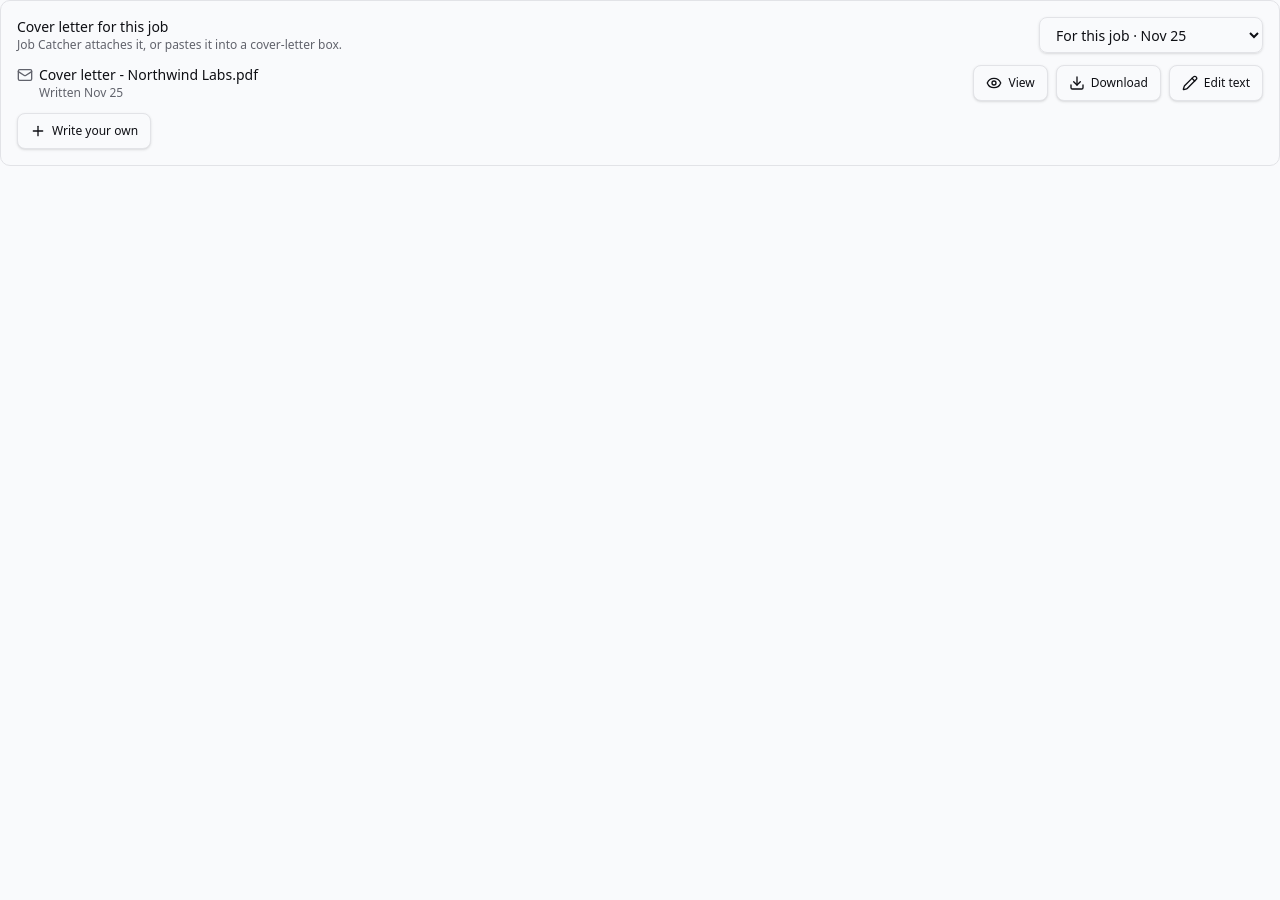
Cover letter for this job › views the letter in the app
This screenshot has width=1280, height=900.
Step 1. Click the button with aria-label "View Cover letter - Northwind Labs.pdf" → (1011, 83), box [974,65,1048,101]
(page scrolled)
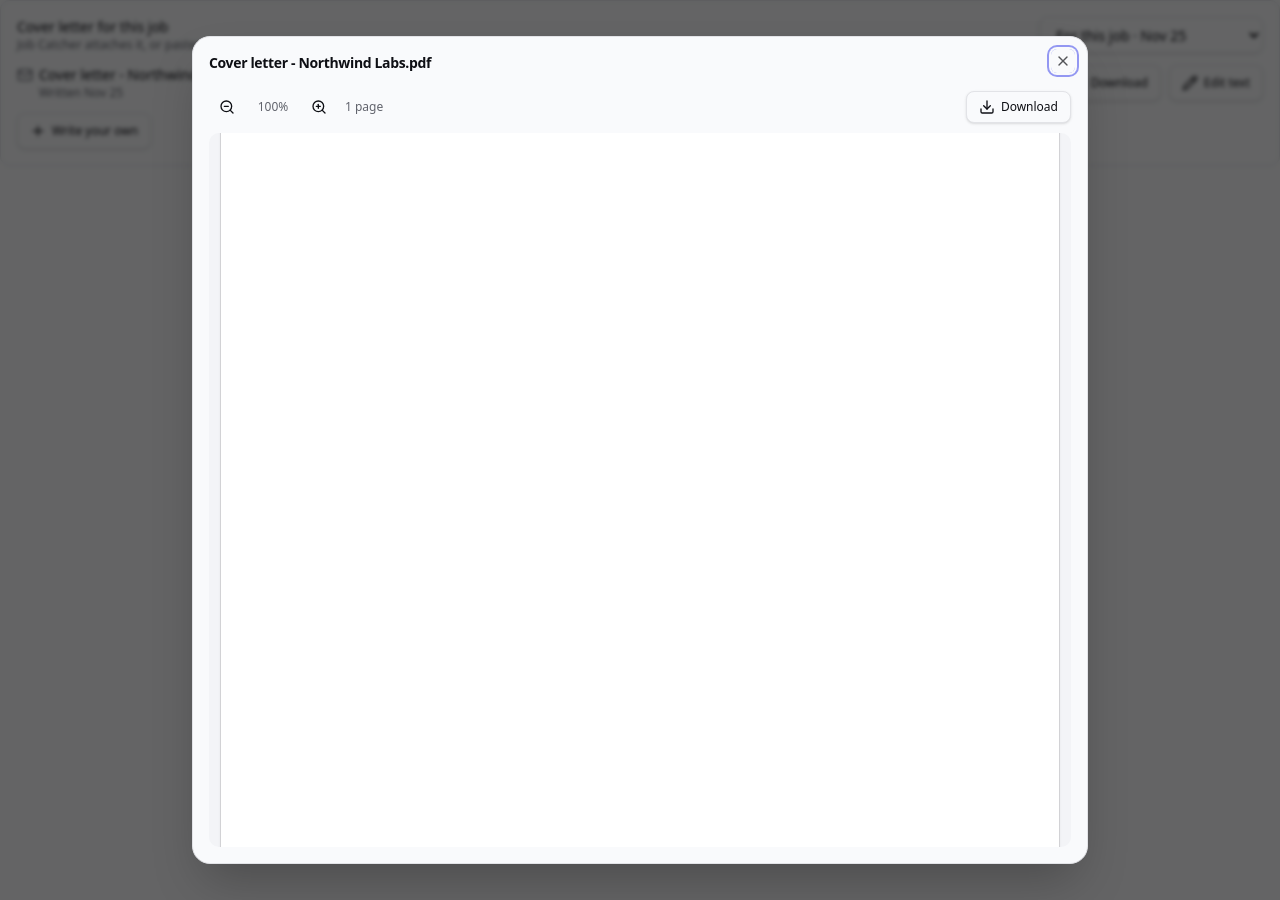
Expected: the picture named "Page 1 of 1" is shown, [221,133,1059,847]
